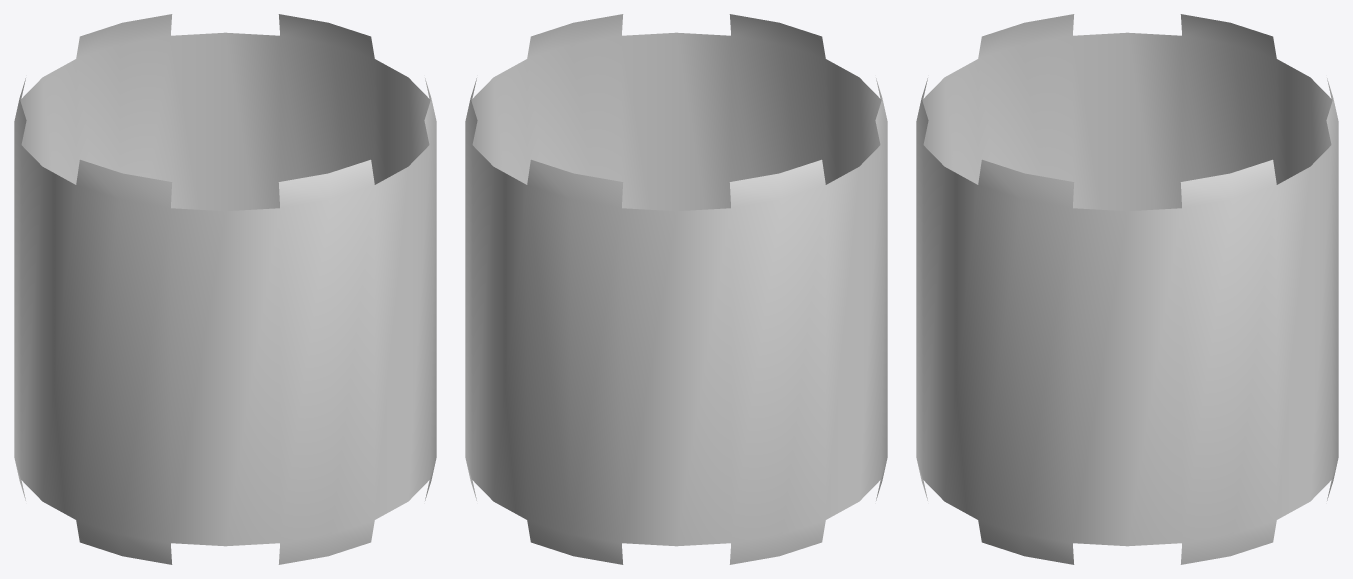
File: NoxiousSlimeGlassMesh.obj
3 renders of one model, left to right at view 1: azimuth 30°, elevation 25°; view 2: azimuth 150°, elevation 25°; view 3: azimuth 270°, elevation 25°, orthographic.
Visible parts, largest first — view 1: NoxiousSlimeGlassMesh_Noxious_Slimes_Glass; view 2: NoxiousSlimeGlassMesh_Noxious_Slimes_Glass; view 3: NoxiousSlimeGlassMesh_Noxious_Slimes_Glass.
Boxes of the visible parts, box(x1,y1,x2,y2) form: NoxiousSlimeGlassMesh_Noxious_Slimes_Glass: box(14, 14, 436, 564); NoxiousSlimeGlassMesh_Noxious_Slimes_Glass: box(465, 14, 887, 564); NoxiousSlimeGlassMesh_Noxious_Slimes_Glass: box(916, 14, 1338, 564).
Size of the model in its own units: 1.5 by 1.5 by 1.5.
1 material, 1 textured.
